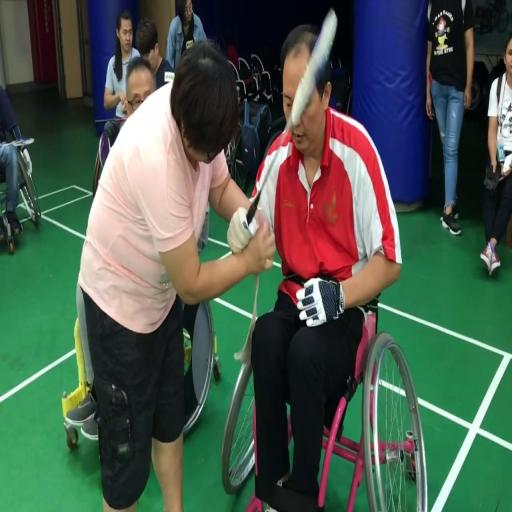cadeira_de_rodas: (217, 224, 429, 512)
